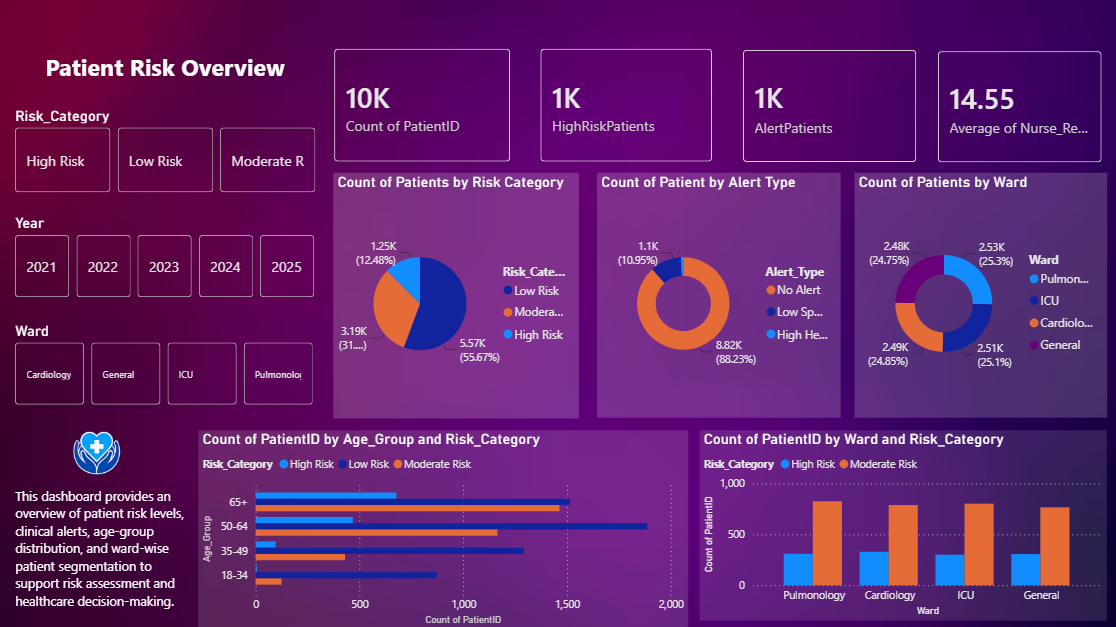

The page's visual inventory and layout, read from the dashboard file:
{"tool":"powerbi","page":{"name":"Page 1","canvas":[1280,720],"ordinal":0},"visuals":[{"type":"cardVisual","fields":{"Data":["CountNonNull(enhanced_patient_monitoring_data (3).PatientID)"]},"box":[368.9,39.5,235.9,163.2],"z":0},{"type":"cardVisual","fields":{"Data":["PatientData.HighRiskPatients"]},"box":[604.9,40.5,230.7,163.2],"z":1000},{"type":"cardVisual","fields":{"Data":["PatientData.AlertPatients"]},"box":[835.7,41.4,232.9,162.9],"z":2000},{"type":"cardVisual","fields":{"Data":["Avg(PatientData.Nurse_Response_Time)"]},"box":[1058.6,42.9,221.4,161.4],"z":3000},{"type":"pieChart","title":"Count of Patients by Risk Category","fields":{"Category":["PatientData.Risk_Category"],"Y":["CountNonNull(PatientData.PatientID)"]},"box":[384.5,198.5,280.6,280.6],"z":4000},{"type":"donutChart","title":"Count of Patients by Ward","fields":{"Y":["CountNonNull(PatientData.PatientID)"],"Category":["PatientData.Ward"]},"box":[980,198.6,288.6,280],"z":5000},{"type":"donutChart","title":"Count of Patient by Alert Type","fields":{"Category":["PatientData.Alert_Type"],"Y":["CountNonNull(PatientData.PatientID)"]},"box":[685.7,198.6,278.6,280],"z":6000},{"type":"clusteredBarChart","fields":{"Category":["PatientData.Age_Group"],"Y":["CountNonNull(PatientData.PatientID)"],"Series":["PatientData.Risk_Category"]},"box":[229.7,492.6,560.2,227.6],"z":7000},{"type":"clusteredColumnChart","fields":{"Category":["PatientData.Ward"],"Y":["CountNonNull(PatientData.PatientID)"],"Series":["PatientData.Risk_Category"]},"box":[802.3,492.6,465.6,217.2],"z":8000},{"type":"advancedSlicerVisual","fields":{"Values":["PatientData.Year"]},"box":[15.6,246.3,353.4,100.8],"z":9000},{"type":"advancedSlicerVisual","fields":{"Values":["PatientData.Ward"]},"box":[15.6,368.9,353.4,100.8],"z":10000},{"type":"advancedSlicerVisual","fields":{"Values":["PatientData.Risk_Category"]},"box":[15.6,122.6,353.4,103.9],"z":11000},{"type":"textbox","box":[15,500,203.3,203.3],"z":12000},{"type":"textbox","box":[15.7,54.3,352.9,70],"z":13000},{"type":"image","box":[10.4,430.3,208.9,196.4],"z":14000}]}

Visuals, with their boxes in screenshot pixels (x1, y1, x2, y2), scaled from the page's 1280x720 canvas onto the 1116x627 screenshot:
cardVisual - CountNonNull(enhanced_patient_monitoring_data (3).PatientID): bbox(322, 34, 527, 177)
cardVisual - PatientData.HighRiskPatients: bbox(527, 35, 729, 177)
cardVisual - PatientData.AlertPatients: bbox(729, 36, 932, 178)
cardVisual - Avg(PatientData.Nurse_Response_Time): bbox(923, 37, 1115, 178)
"Count of Patients by Risk Category" pieChart: bbox(335, 173, 580, 417)
"Count of Patients by Ward" donutChart: bbox(854, 173, 1106, 417)
"Count of Patient by Alert Type" donutChart: bbox(598, 173, 841, 417)
clusteredBarChart - PatientData.Age_Group x CountNonNull(PatientData.PatientID): bbox(200, 429, 689, 626)
clusteredColumnChart - PatientData.Ward x CountNonNull(PatientData.PatientID): bbox(700, 429, 1105, 618)
advancedSlicerVisual - PatientData.Year: bbox(14, 214, 322, 302)
advancedSlicerVisual - PatientData.Ward: bbox(14, 321, 322, 409)
advancedSlicerVisual - PatientData.Risk_Category: bbox(14, 107, 322, 197)
textbox: bbox(13, 435, 190, 612)
textbox: bbox(14, 47, 321, 108)
image: bbox(9, 375, 191, 546)
